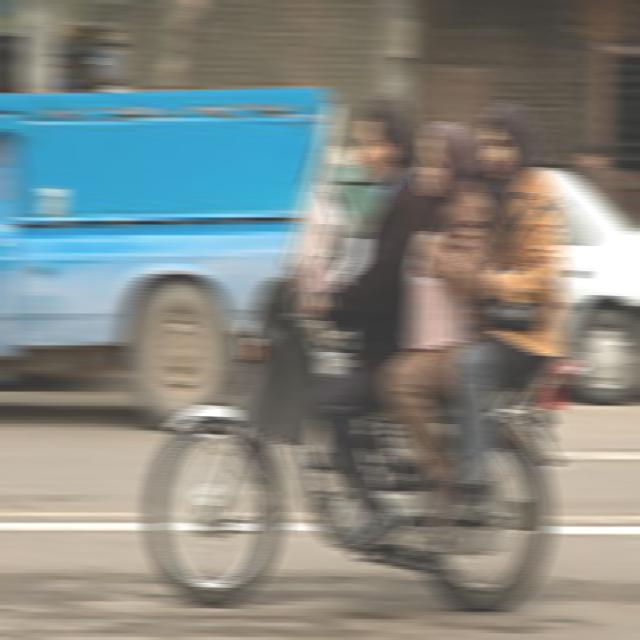Without Helmet: (352, 89, 414, 185), (416, 110, 480, 199)
